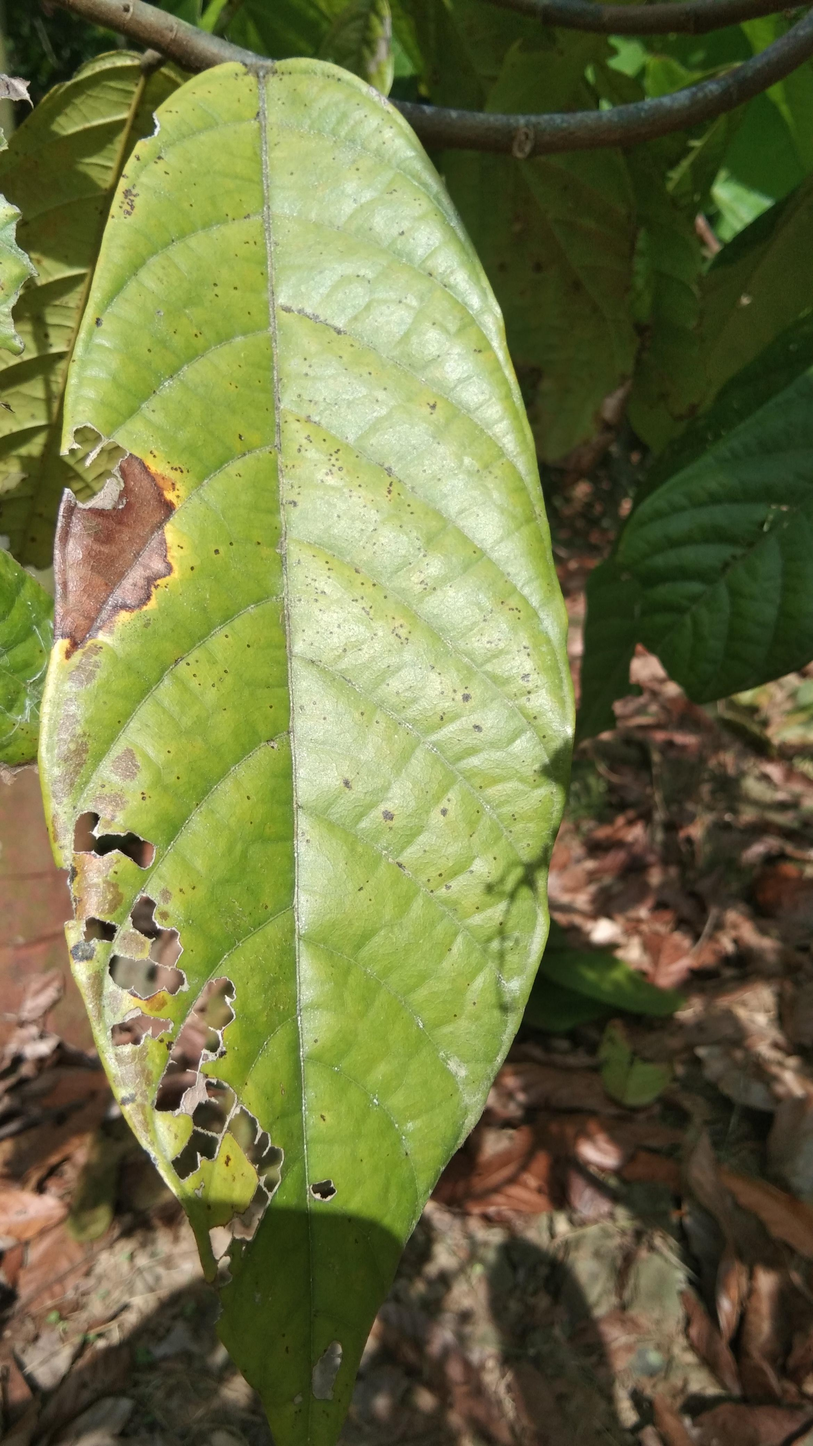deficiencia_potasio: (39, 55, 569, 1446)
